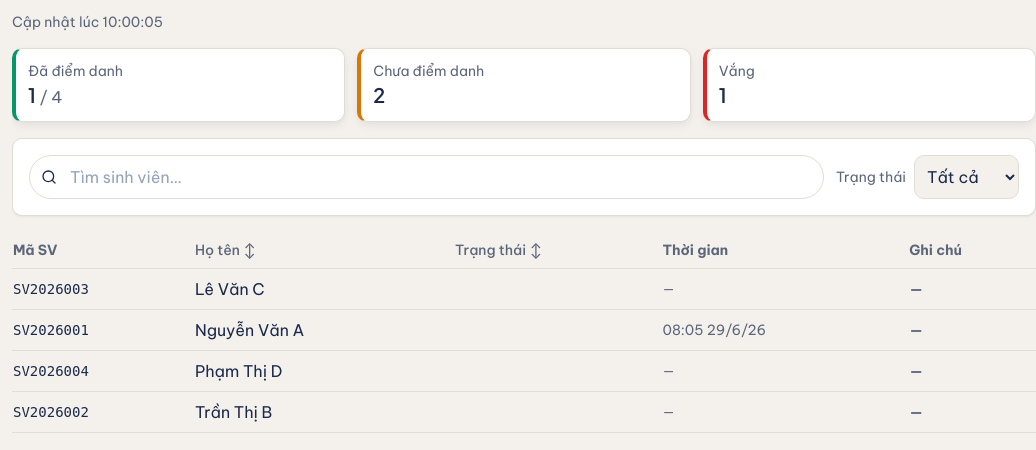
it: SessionMonitorDashboard (AC-15, FR-15, NFR-08) › TC-AC-15-013: student search filters roster without changing StatCards
The width and height of the screenshot is (1036, 450).
In the search field with test id "monitor-student-search": (426, 177) [29,155,824,199], type "Trần"
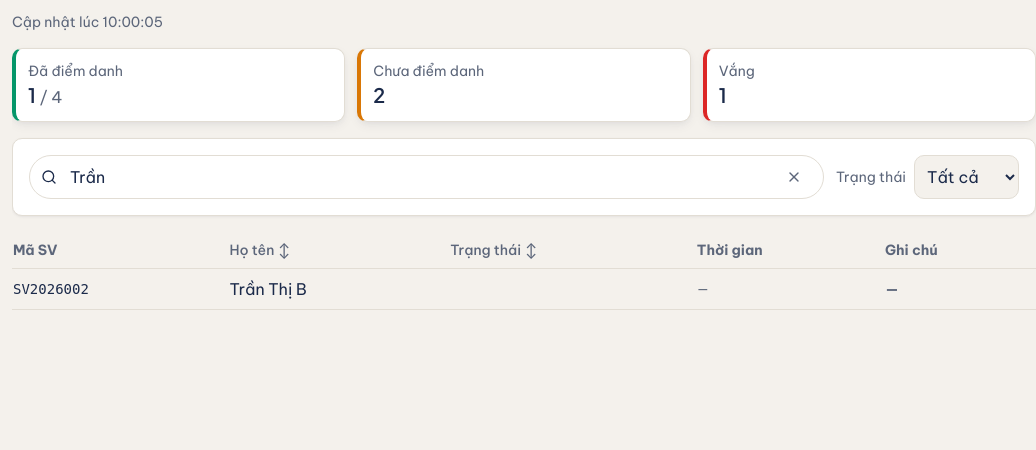
expect the row with test id "monitor-row-sv2026002" is shown: met, box [12,268,1035,310]
expect the row with test id "monitor-row-sv2026001" is gone: met
